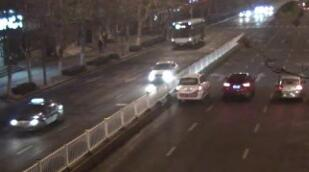bus: (168, 16, 208, 47)
car: (6, 95, 64, 132), (145, 57, 181, 85), (273, 72, 305, 102), (221, 70, 255, 97), (175, 74, 208, 101)
